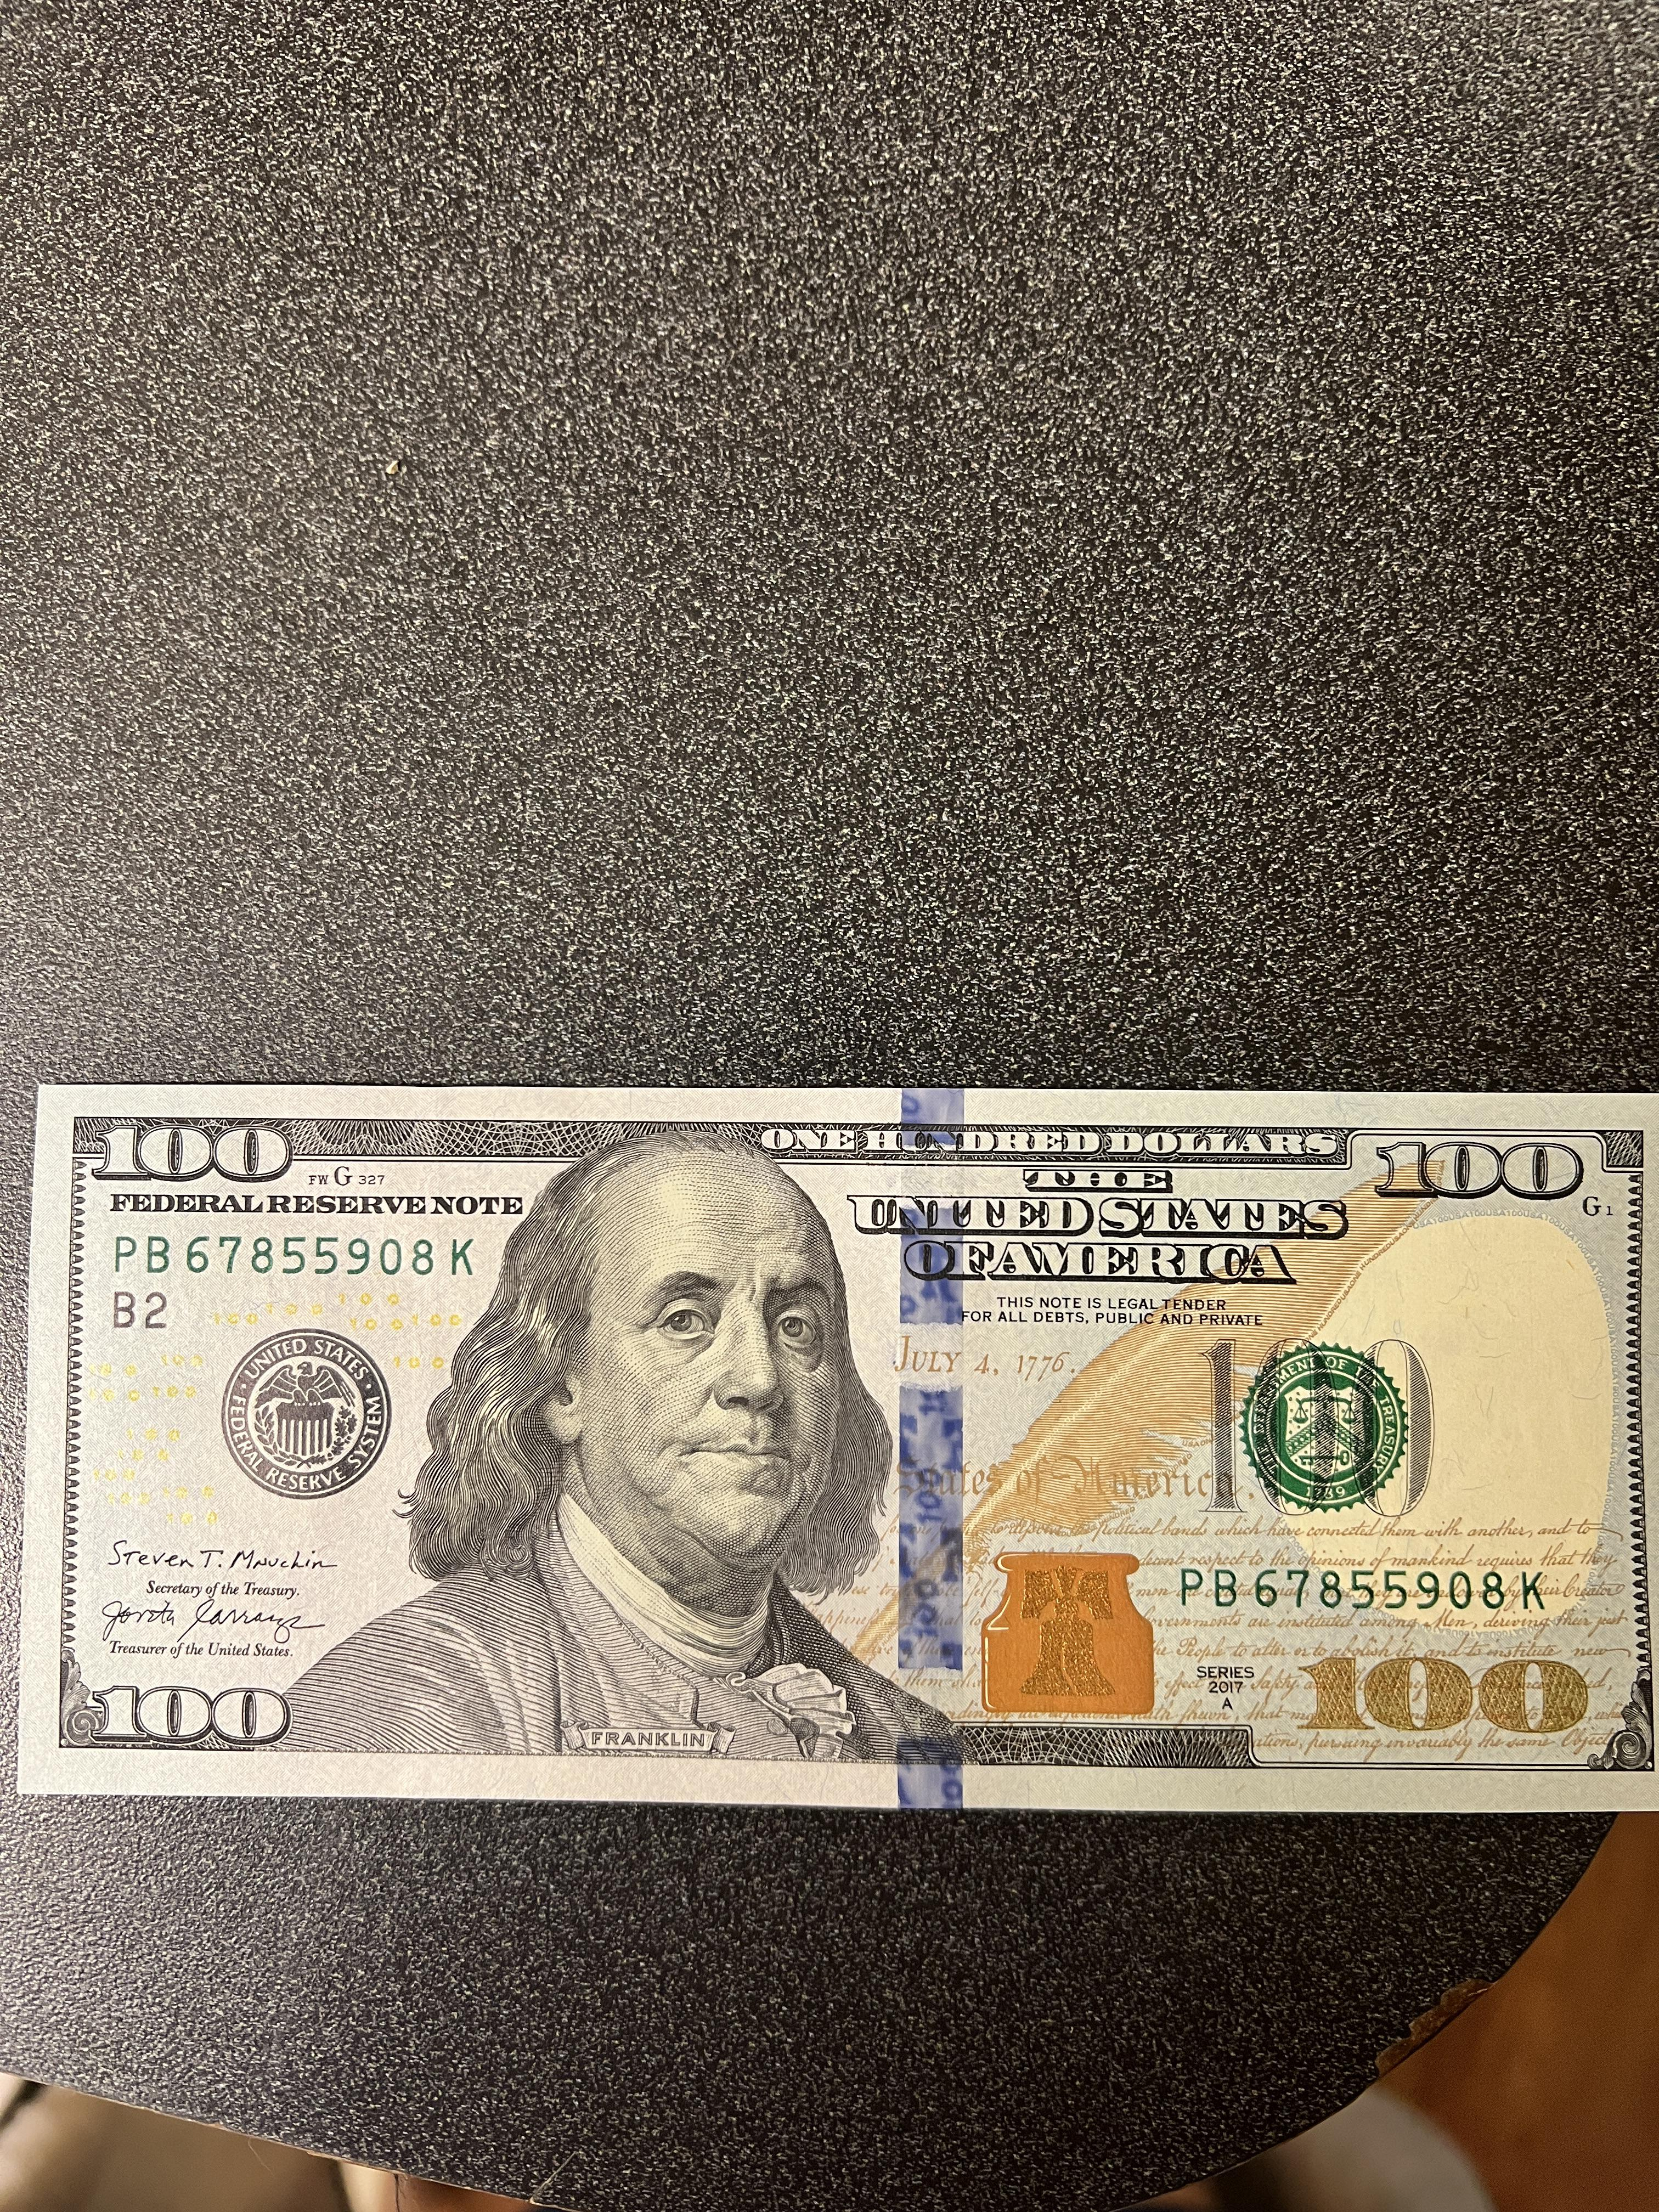HundredBill: (23, 1076, 1657, 1820)
